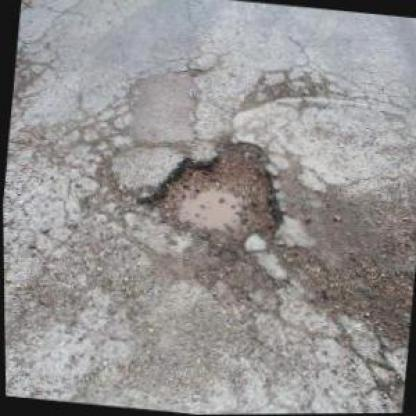pothole: (132, 122, 295, 263)
